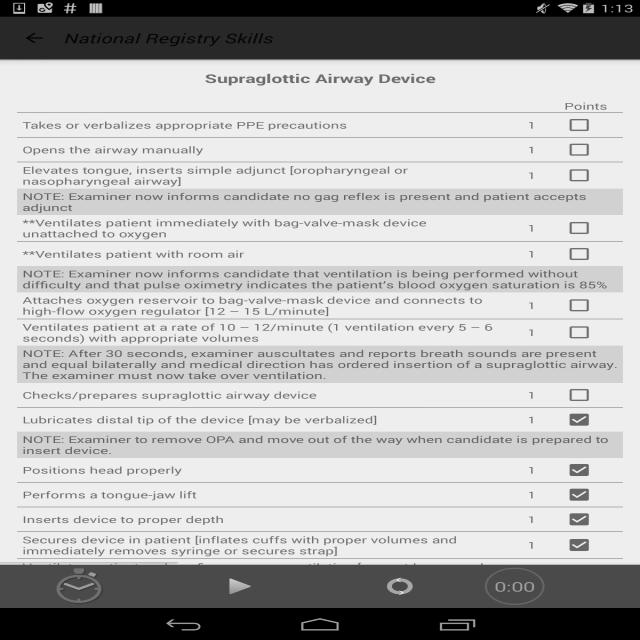CheckBox: (562, 114, 623, 136), (562, 217, 623, 239), (562, 243, 623, 265), (562, 384, 623, 406), (562, 459, 623, 481), (562, 534, 623, 556), (562, 139, 623, 160), (562, 165, 623, 186), (562, 295, 623, 316), (562, 322, 623, 343), (562, 409, 623, 430), (562, 484, 623, 505), (562, 509, 623, 530)
ImageButton: (0, 19, 60, 57)
ImageView: (0, 565, 160, 608), (160, 576, 320, 596), (320, 576, 480, 596)
ProgressBar: (480, 565, 549, 608), (0, 561, 640, 565)
TextView: (17, 346, 623, 383), (17, 560, 501, 595), (17, 86, 623, 112), (17, 189, 623, 215), (17, 266, 623, 292), (17, 432, 623, 458), (17, 216, 501, 240), (17, 533, 501, 557), (17, 164, 501, 187), (17, 294, 501, 317), (17, 321, 501, 344), (17, 70, 623, 86), (17, 143, 501, 156), (17, 413, 501, 426), (17, 488, 501, 501), (17, 513, 501, 526), (17, 119, 501, 131), (17, 248, 501, 260), (17, 389, 501, 401), (17, 464, 501, 476), (64, 29, 274, 47), (480, 565, 549, 608), (501, 143, 562, 156), (501, 169, 562, 182), (501, 299, 562, 312), (501, 326, 562, 339), (501, 413, 562, 426), (501, 488, 562, 501), (501, 513, 562, 526), (501, 119, 562, 131), (501, 222, 562, 234), (501, 248, 562, 260), (501, 389, 562, 401), (501, 464, 562, 476), (501, 539, 562, 551)
